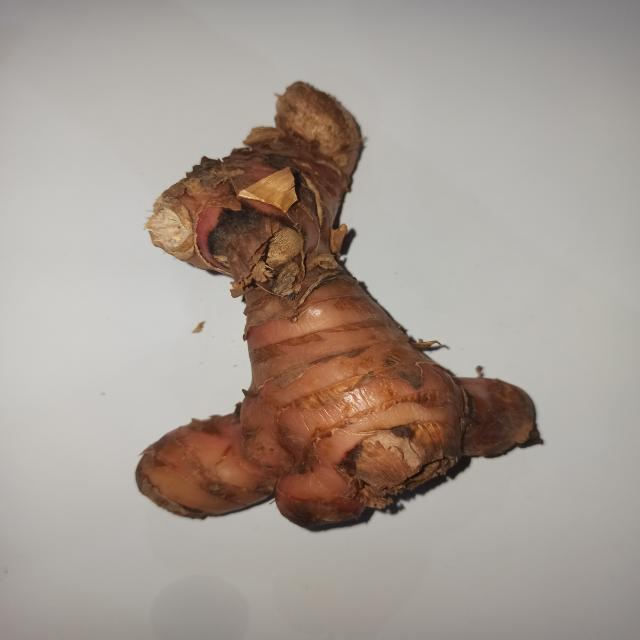ginger: (152, 92, 546, 524)
